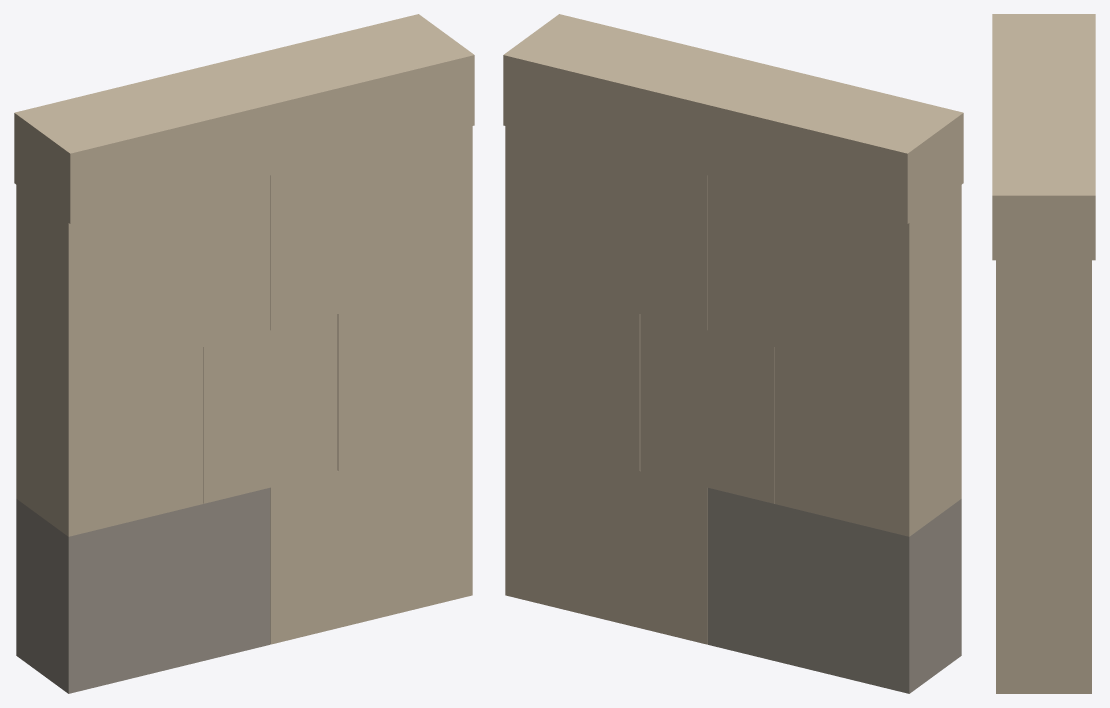
File: stone_wall_module.fbx
3 renders of one model, left to right at view 1: azimuth 30°, elevation 25°; view 2: azimuth 150°, elevation 25°; view 3: azimuth 270°, elevation 25°, orthographic. The views are drawn at different scales.
Visible parts, largest first — view 1: stone_wall_module; view 2: stone_wall_module; view 3: stone_wall_module.
Boxes of the visible parts, <box> form: stone_wall_module: <box>14,14,474,693</box>; stone_wall_module: <box>503,14,963,693</box>; stone_wall_module: <box>992,14,1095,693</box>.
Size of the model in its own units: 2.5 by 3.2 by 0.6.
